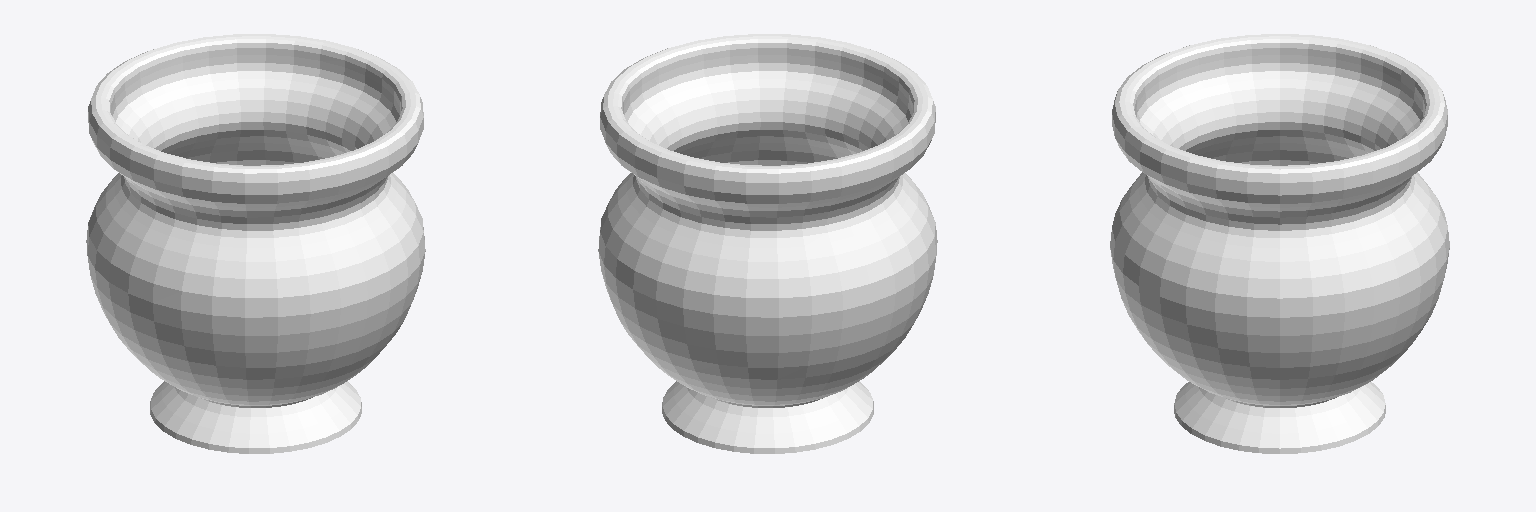
Rendered from Llum.obj.
The picture shows the model from 3 angles: view 1: azimuth 30°, elevation 25°; view 2: azimuth 150°, elevation 25°; view 3: azimuth 270°, elevation 25°; orthographic projection.
Parts seen in each view (by area): view 1: Llum.001; view 2: Llum.001; view 3: Llum.001.
Boxes of the visible parts, x1=… form: Llum.001: x1=86, y1=34, x2=425, y2=453; Llum.001: x1=598, y1=34, x2=937, y2=453; Llum.001: x1=1110, y1=34, x2=1449, y2=453.
Size of the model in its own units: 0.101 by 0.1012 by 0.101.